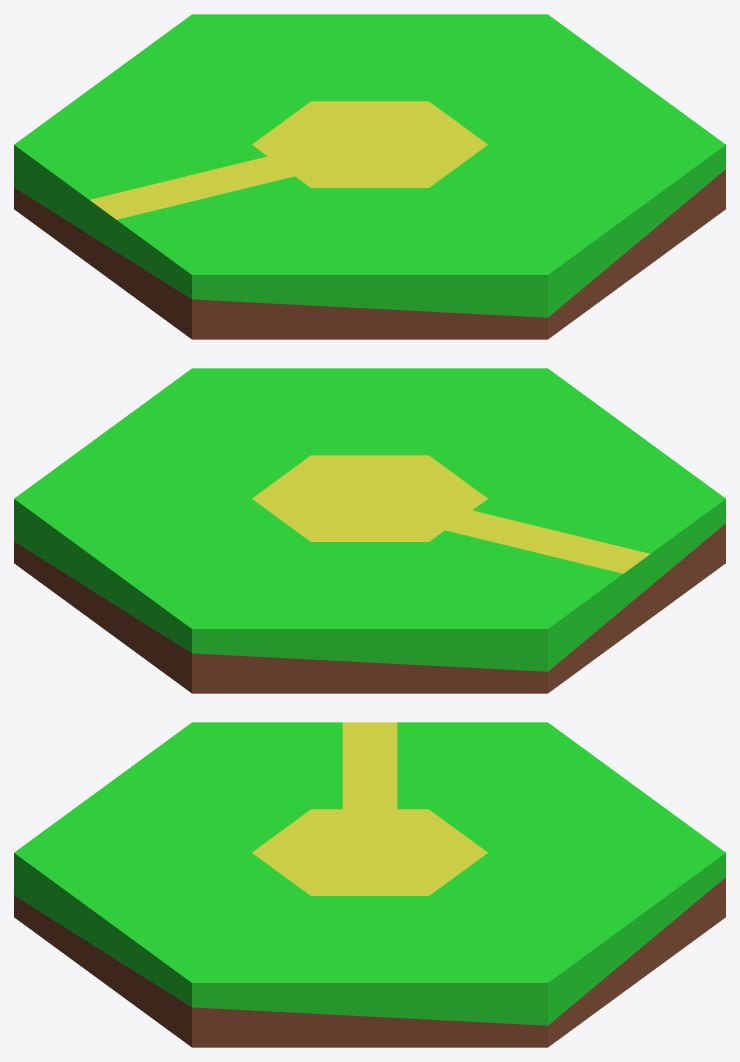
The model's file is pathSpawnTile.fbx.
3 renders of one model, top to bottom at view 1: azimuth 30°, elevation 25°; view 2: azimuth 150°, elevation 25°; view 3: azimuth 270°, elevation 25°, orthographic.
Visible parts, largest first — view 1: CylinderPathNode.001; view 2: CylinderPathNode.001; view 3: CylinderPathNode.001.
Part boxes in pixels (box(x1,y1,x2,y2)): CylinderPathNode.001: box(14, 14, 725, 339); CylinderPathNode.001: box(14, 368, 725, 693); CylinderPathNode.001: box(14, 722, 725, 1047).
Bounding box in the file's own units: 173 × 40 × 200.
